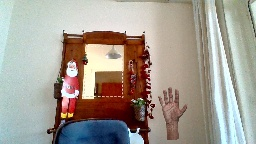Mano_aperta: (155, 85, 188, 123)
